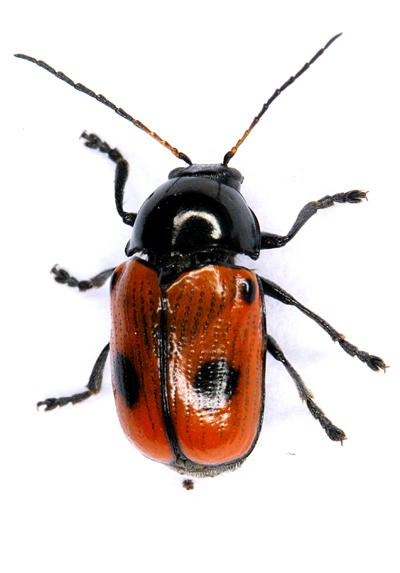Cryptocephalus_bipunctatus: (7, 19, 390, 497)
